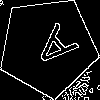A: (23, 22, 80, 78)
